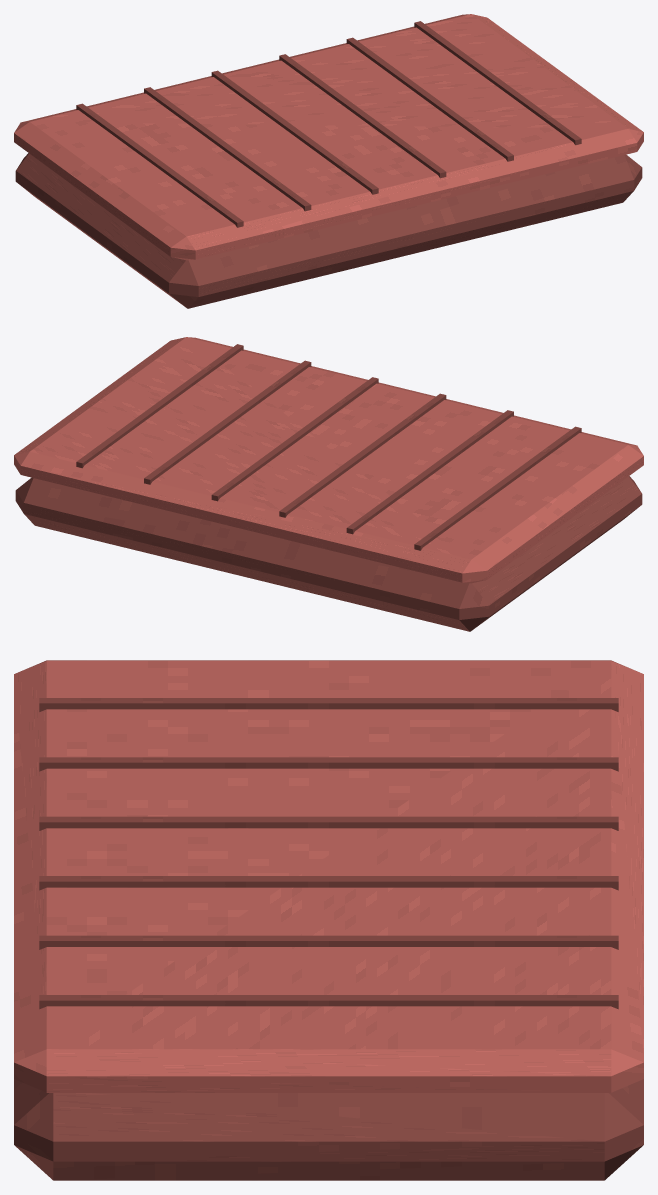
The model's file is pillbox.glb.
3 views of the same model, one above another, from view 1: azimuth 30°, elevation 25°; view 2: azimuth 150°, elevation 25°; view 3: azimuth 270°, elevation 25° (orthographic). The views are drawn at different scales.
Parts seen in each view (by area): view 1: block_contrasting lid, block_case base, block_divider 2, block_divider 6, block_divider 3, block_divider 4, block_divider 1, block_divider 5; view 2: block_contrasting lid, block_case base, block_divider 2, block_divider 6, block_divider 3, block_divider 4, block_divider 1, block_divider 5; view 3: block_contrasting lid, block_case base, block_divider 3, block_divider 5, block_divider 2, block_divider 4, block_divider 6, block_divider 1.
Boxes of the visible parts, x1,y1,x2,y2 form: block_contrasting lid: [14, 14, 643, 260]; block_case base: [15, 153, 642, 308]; block_divider 2: [144, 87, 311, 211]; block_divider 6: [414, 21, 581, 145]; block_divider 3: [211, 70, 378, 194]; block_divider 4: [279, 54, 446, 178]; block_divider 1: [76, 103, 243, 227]; block_divider 5: [346, 37, 513, 161]; block_contrasting lid: [14, 337, 643, 583]; block_case base: [15, 476, 642, 631]; block_divider 2: [346, 410, 513, 534]; block_divider 6: [76, 344, 243, 468]; block_divider 3: [279, 393, 446, 517]; block_divider 4: [211, 377, 378, 501]; block_divider 1: [414, 426, 581, 550]; block_divider 5: [144, 360, 311, 484]; block_contrasting lid: [14, 660, 643, 1092]; block_case base: [14, 1079, 643, 1180]; block_divider 3: [39, 816, 618, 830]; block_divider 5: [39, 935, 618, 949]; block_divider 2: [39, 757, 618, 771]; block_divider 4: [39, 876, 618, 890]; block_divider 6: [39, 995, 618, 1009]; block_divider 1: [39, 698, 618, 711].
Size of the model in its own units: 0.15 by 0.0236 by 0.096.
1 material, 1 textured.
